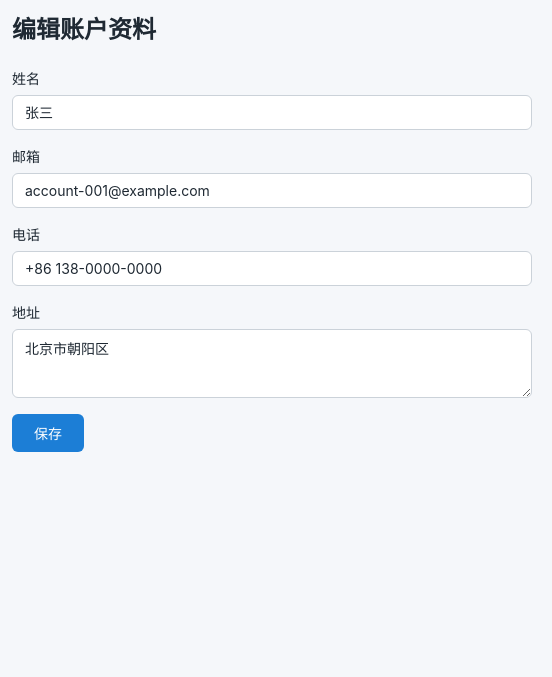
it: EditAccountForm 编辑账户（需求 2.3、2.6、2.7、2.14） › 保存成功时显示成功提示并展示最新资料（需求 2.6、2.10）
The width and height of the screenshot is (552, 677).
Replace the text in the field labelled "姓名" with "李四" at (272, 112), box [12, 95, 532, 130]
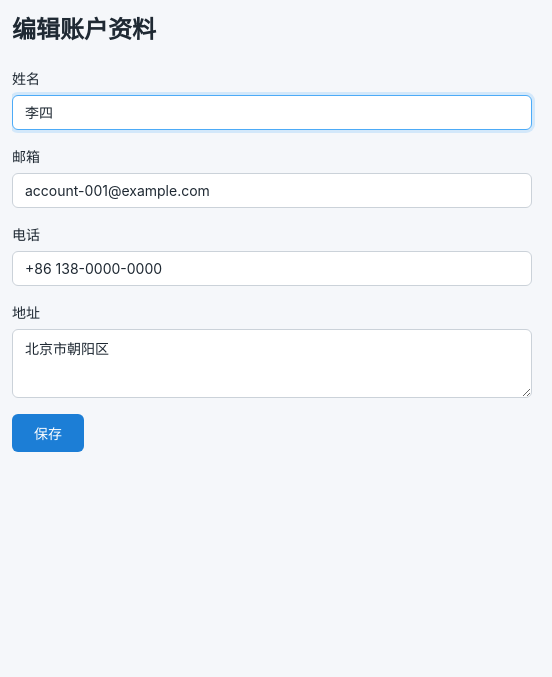
Click the button "保存".
click(48, 433)  # box [12, 414, 84, 452]
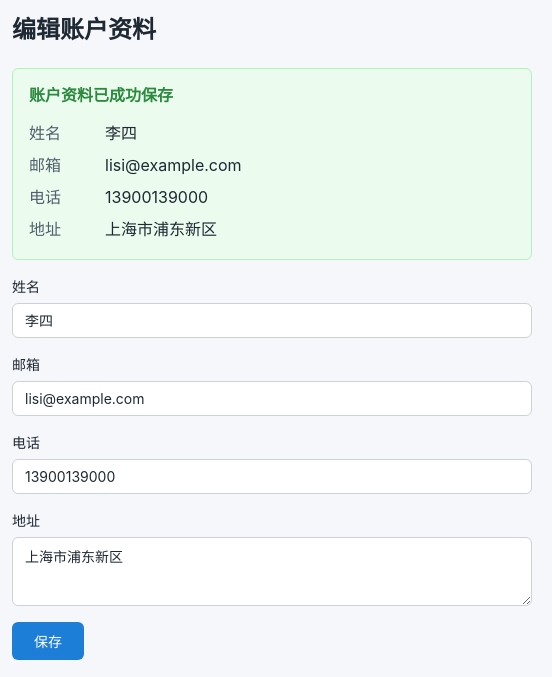
Check: the text "账户资料已成功保存" is shown, box [29, 85, 173, 105]
Check: the text "李四" is shown, box [105, 121, 137, 145]
Check: the text "lisi@example.com" is shown, box [105, 153, 242, 177]
